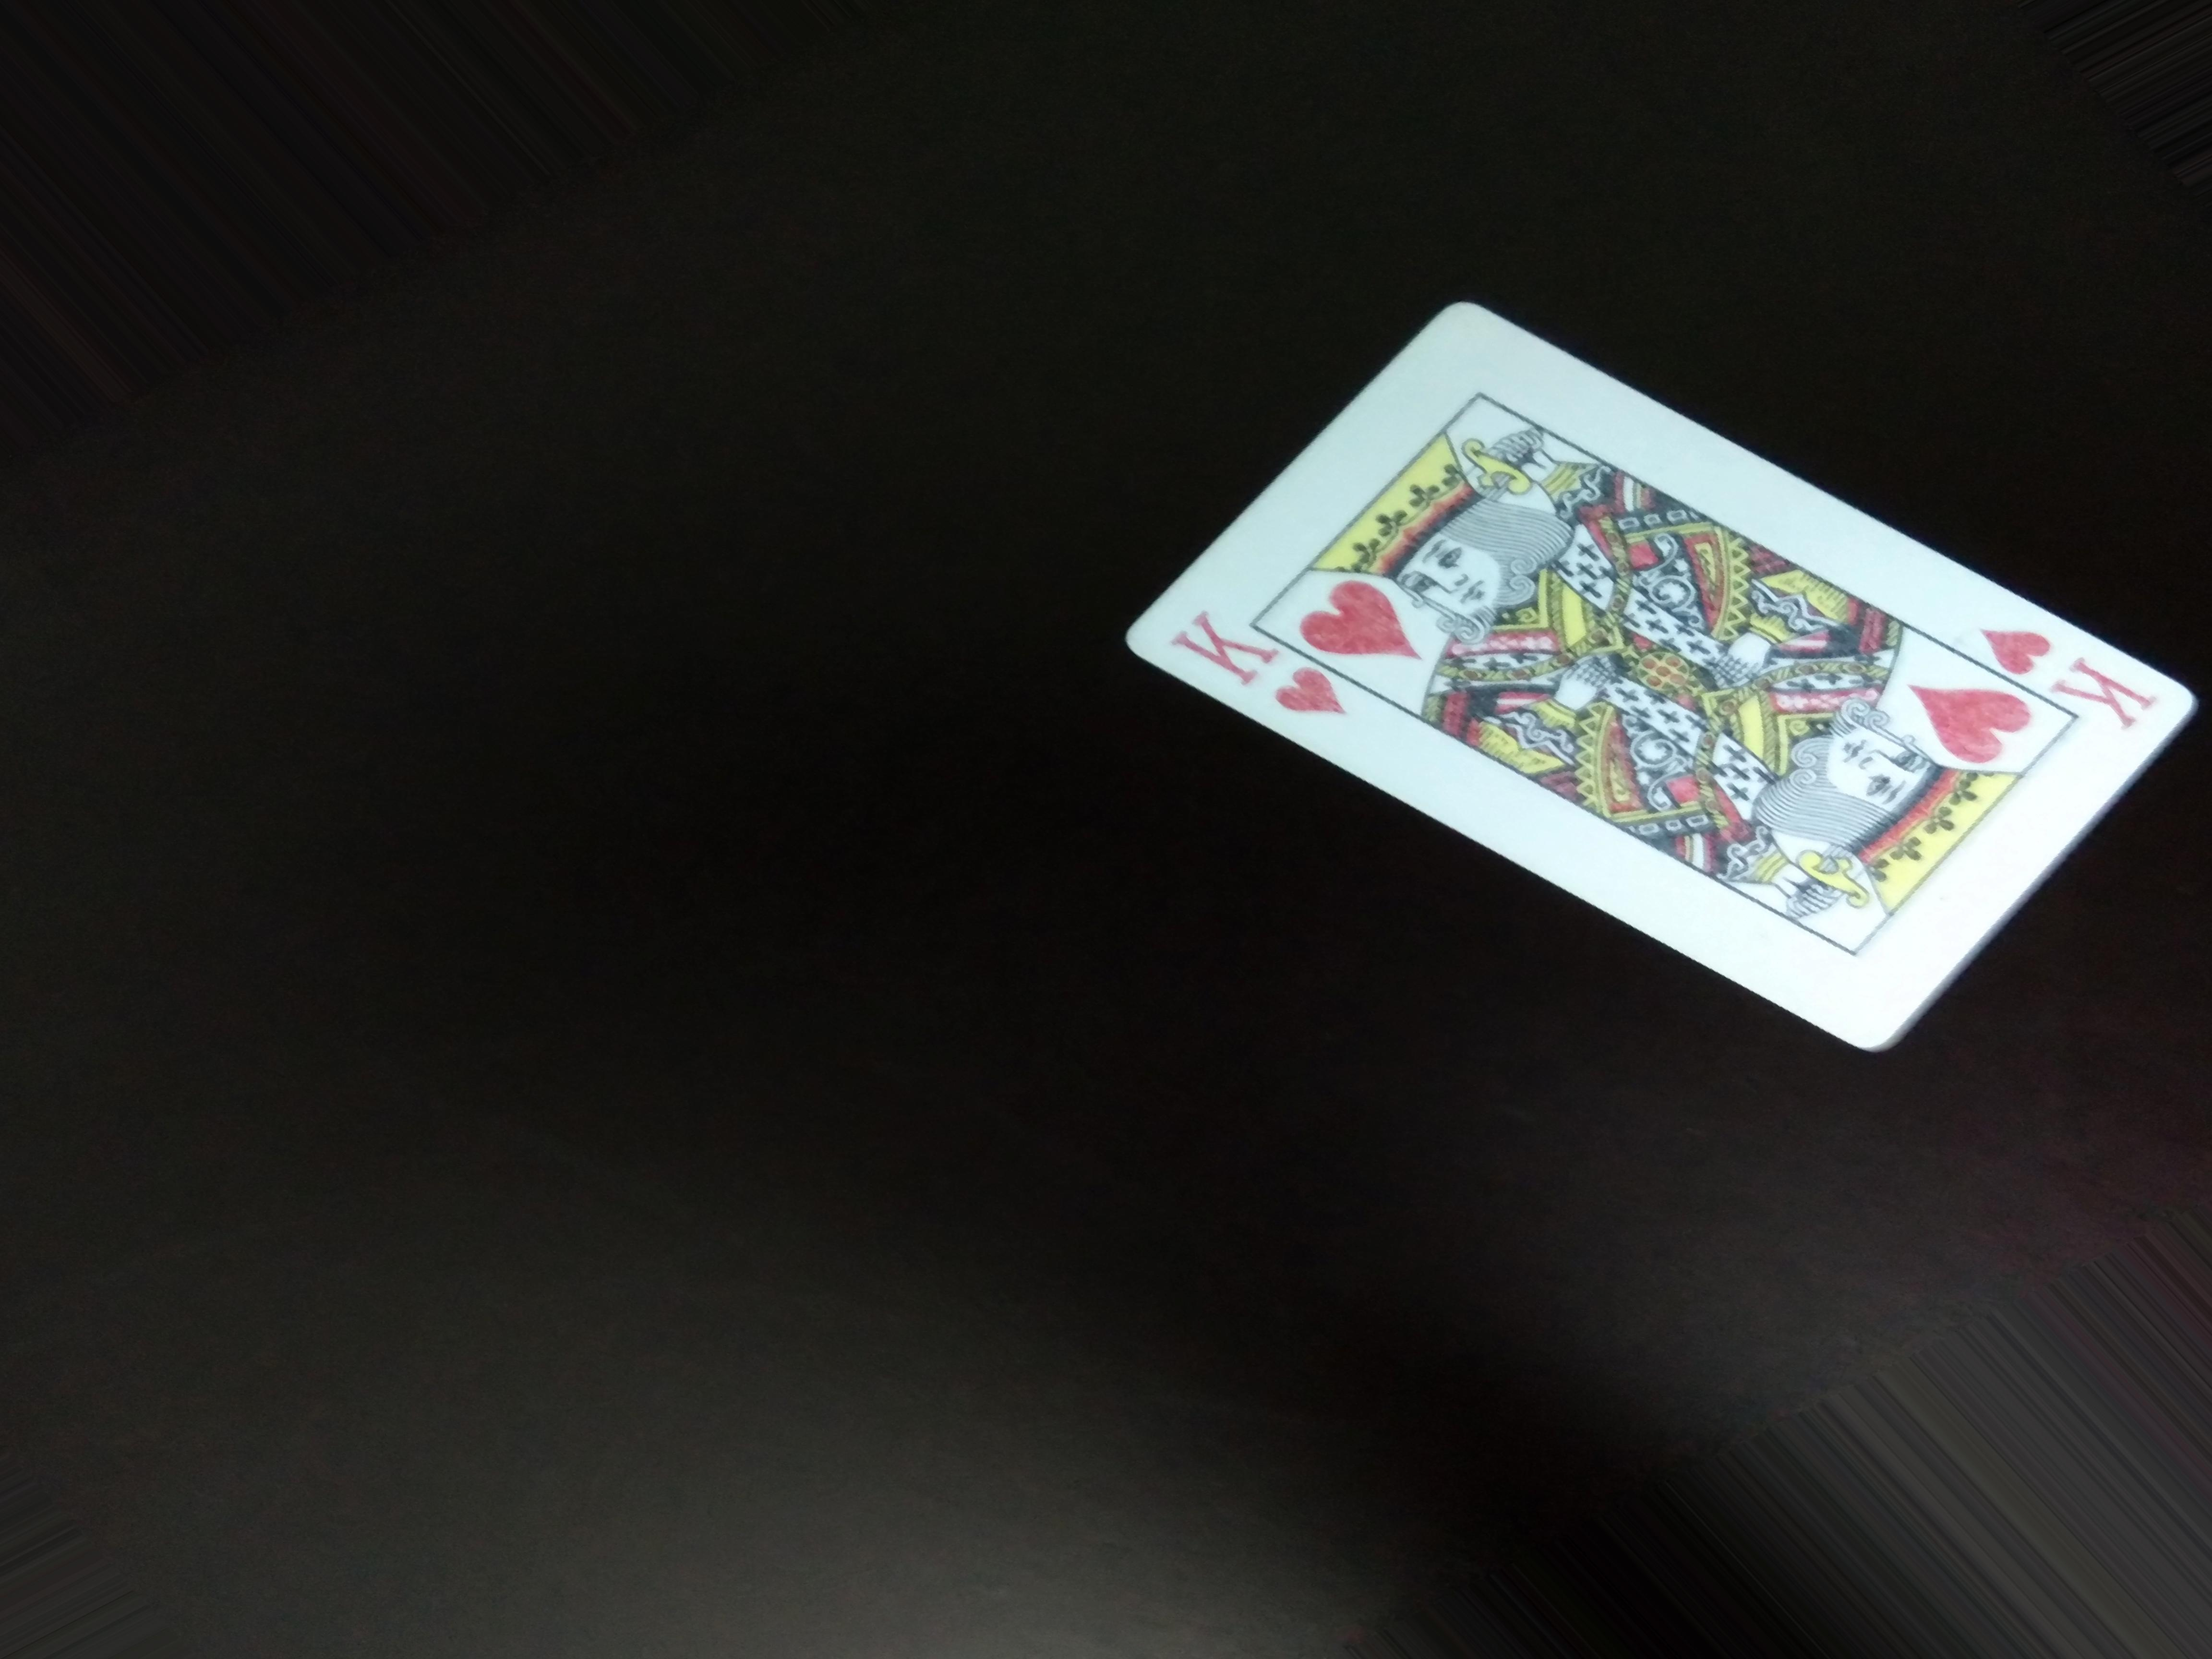KH: (1170, 596, 1338, 744)
